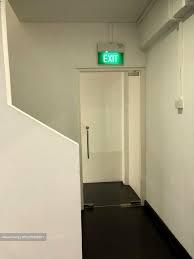exit: (80, 72, 141, 196)
lit_exit_sign: (98, 51, 123, 64)
